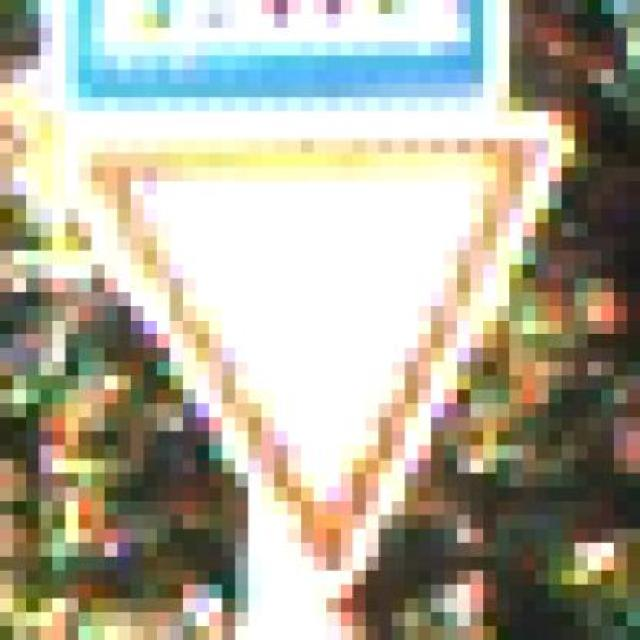Give Way: (24, 106, 625, 622)
